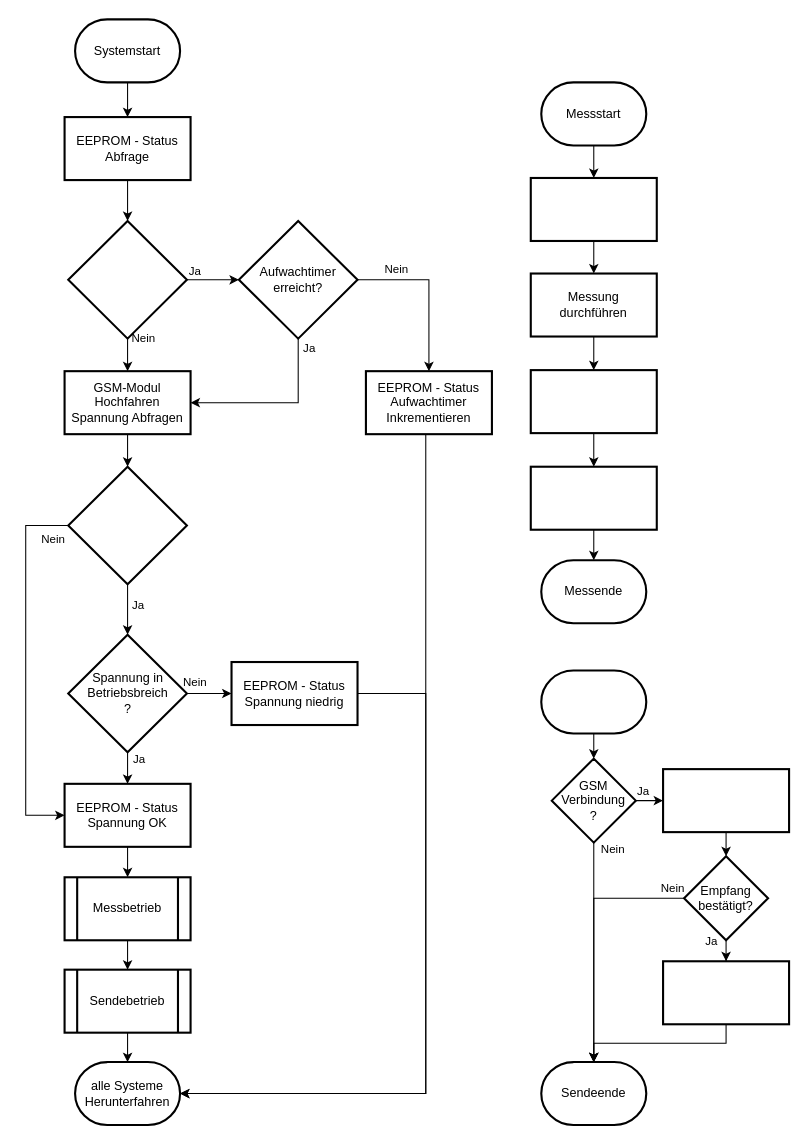
Image size: 808x1143. Some labels were removed from this diagram. Here are the shapes that lost their labels. From the top down, the centre of each, then its label:
At (x=593, y=209): "Messsysteme Hochfahren".
At (x=127, y=279): "Status Spannung niedrig ?".
At (x=593, y=401): "Messwerte Speichern".
At (x=593, y=497): "Messsysteme Herunterfahren".
At (x=127, y=525): "GSM-Modul OK ?".
At (x=593, y=701): "Sendestart".
At (x=726, y=800): "Messwerte Hochladen".
At (x=726, y=992): "Hochgeladene Messwerte Löschen".
